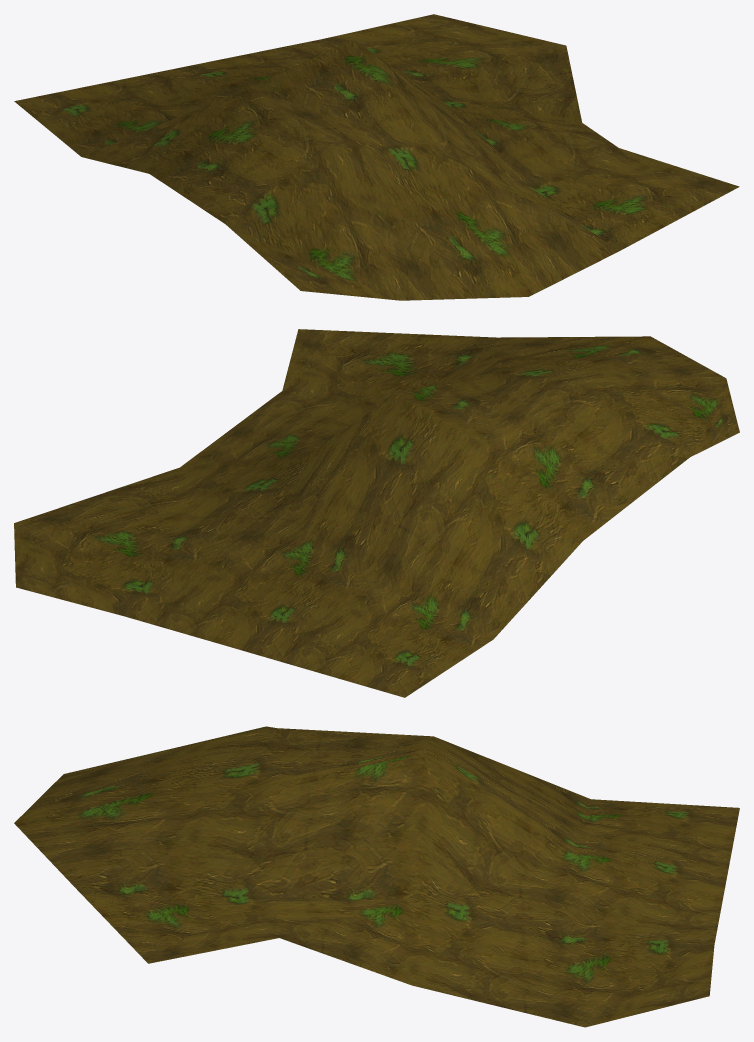
File: MIRKWOOD_AREA4_BARRIER.fbx
3 renders of one model, top to bottom at view 1: azimuth 30°, elevation 25°; view 2: azimuth 150°, elevation 25°; view 3: azimuth 270°, elevation 25°, orthographic. The views are drawn at different scales.
Visible parts, largest first — view 1: MIRKWOOD_AREA4_BARRIER; view 2: MIRKWOOD_AREA4_BARRIER; view 3: MIRKWOOD_AREA4_BARRIER.
Boxes of the visible parts, x1=… form: MIRKWOOD_AREA4_BARRIER: x1=14, y1=14, x2=739, y2=300; MIRKWOOD_AREA4_BARRIER: x1=14, y1=329, x2=739, y2=697; MIRKWOOD_AREA4_BARRIER: x1=14, y1=726, x2=739, y2=1027.
Size of the model in its own units: 496021 by 130193 by 643003.
Materials: 1 (1 with a texture image).
